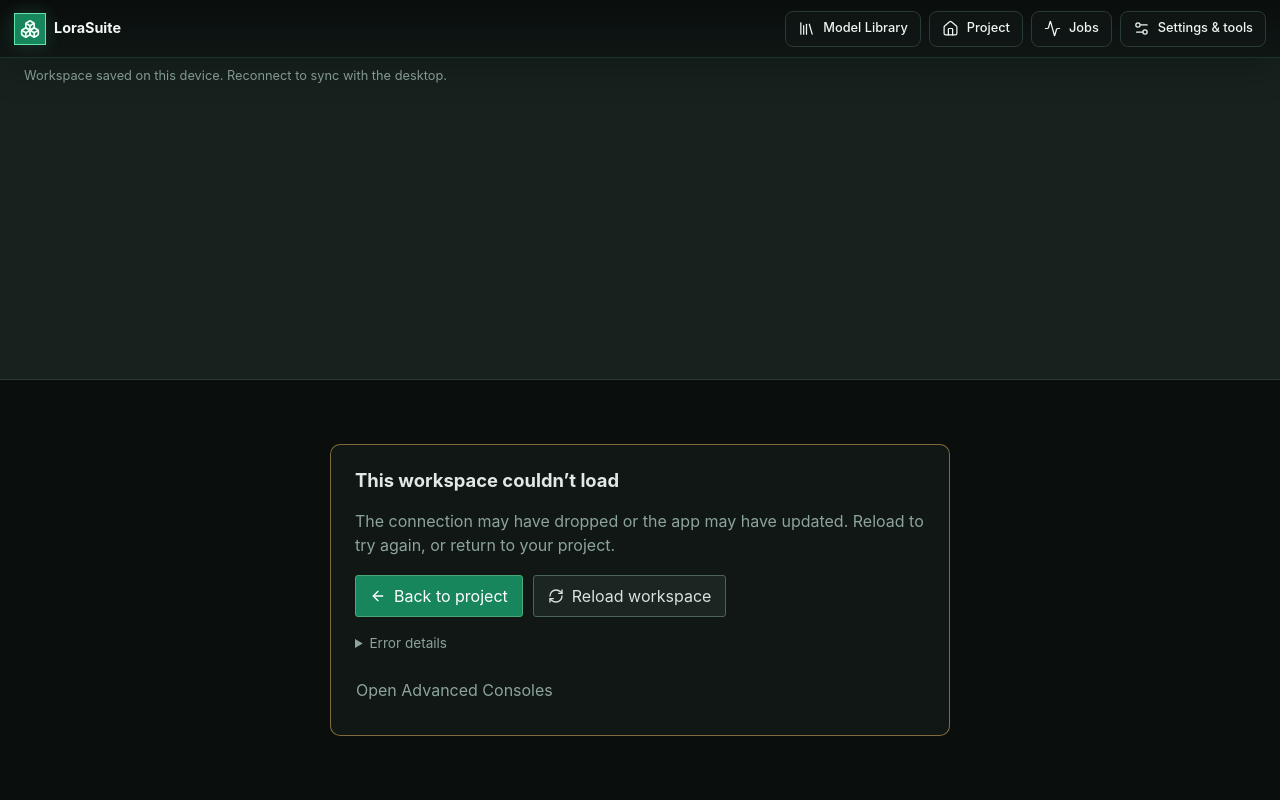
escapes a failed Build screen using LoraSuite home without changing the selected project
Expected: the button "Back to project" is shown, [355,575,523,617]
What coordinates should you click on to do the following:
click the button with aria-label "LoraSuite home"
I would click on:
 (68, 28)
Its box is [14,12,121,44].
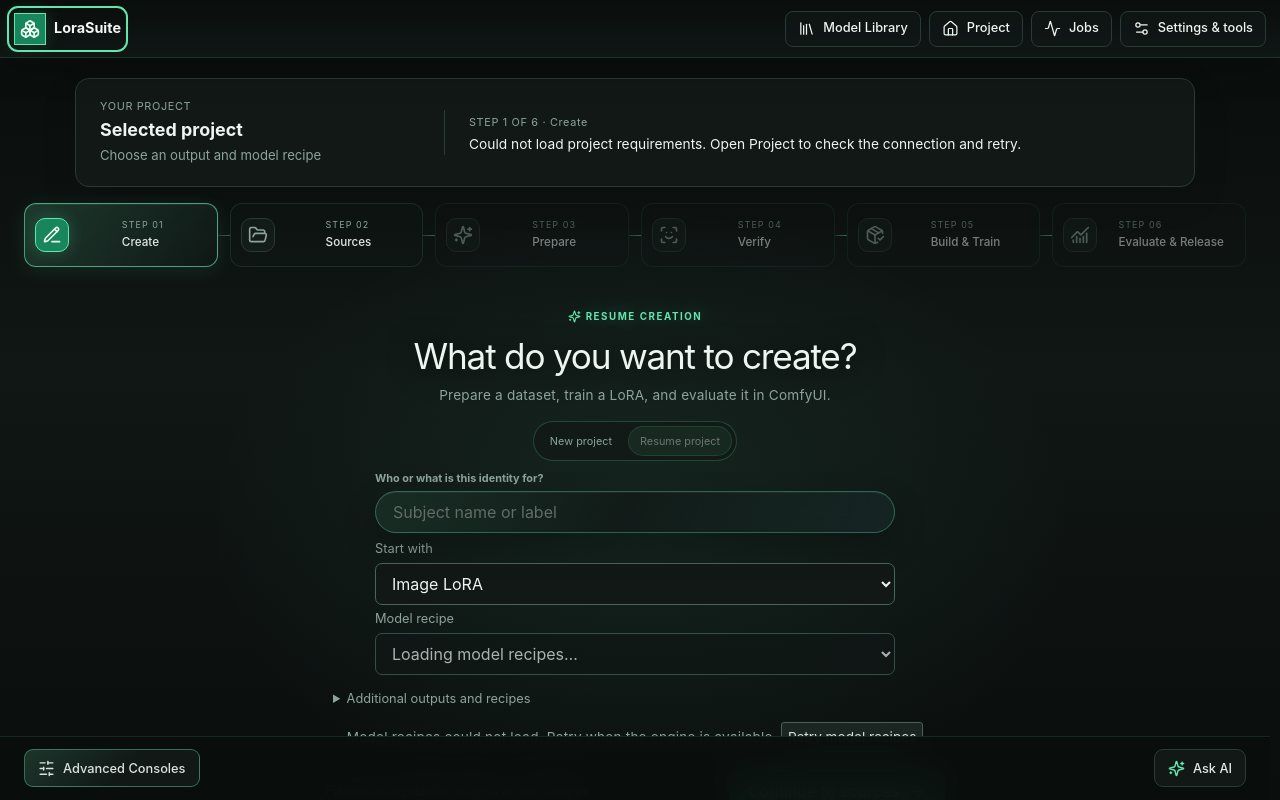
Expected: the heading "What do you want to create?" is shown, [414,335,856,377]
Expected: the heading "This workspace couldn’t load" is gone
